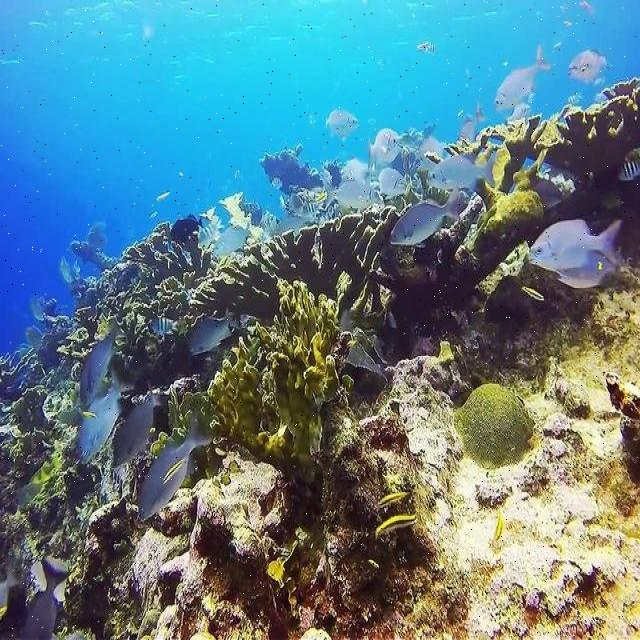aquatic plants: (206, 279, 341, 498)
fish: (139, 415, 216, 521), (78, 358, 137, 465), (528, 219, 624, 273), (108, 393, 163, 469), (389, 189, 459, 245), (494, 44, 552, 110), (26, 558, 73, 639), (80, 325, 123, 410), (557, 246, 624, 291), (426, 151, 497, 191), (188, 306, 239, 355), (366, 129, 402, 171), (212, 220, 254, 254), (567, 52, 607, 82), (326, 109, 358, 139), (376, 514, 419, 536), (459, 105, 484, 142), (151, 317, 179, 335), (374, 492, 408, 506), (521, 286, 545, 301), (416, 40, 436, 55), (510, 104, 531, 118)
